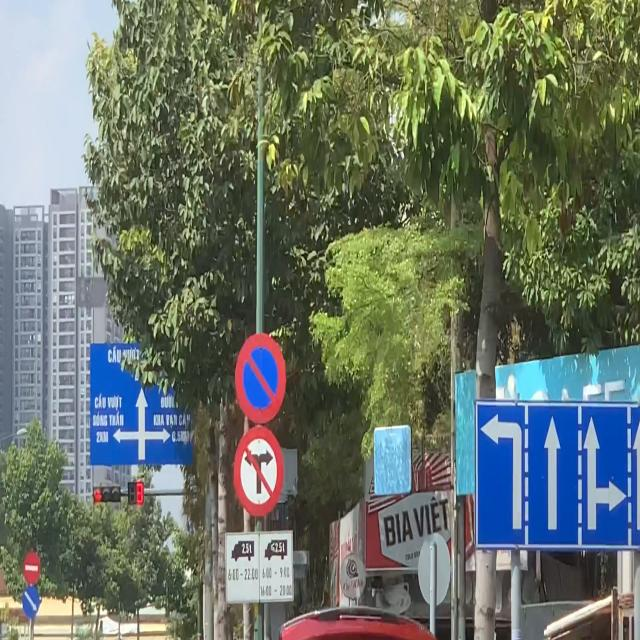Cam con lai: (230, 424, 284, 516)
Cam do: (234, 325, 290, 418)
Cam nguoc chieu: (22, 548, 42, 584)
Hieu lenh: (20, 587, 42, 620)
